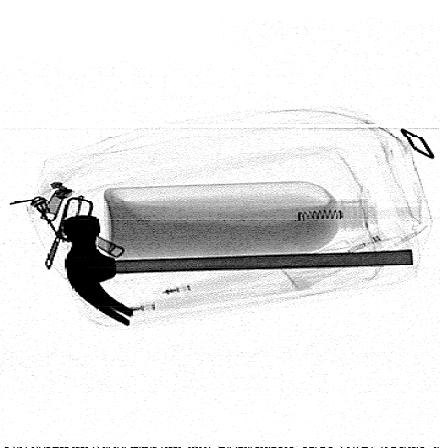Hammer: (61, 214, 414, 328)
